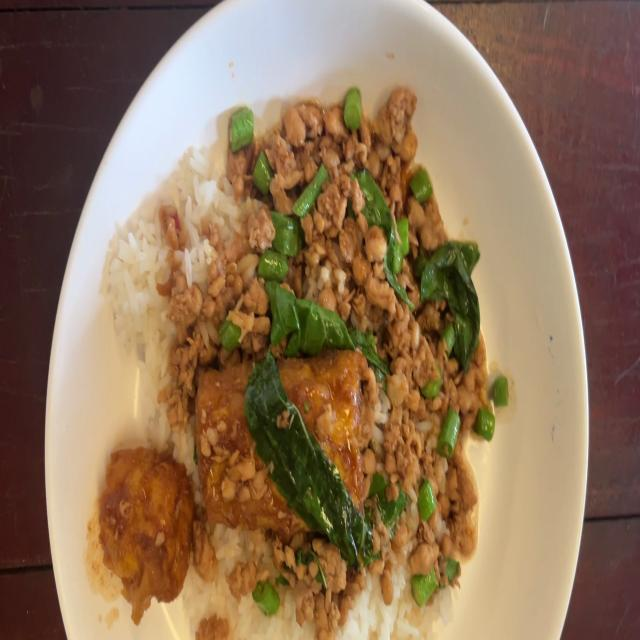01rice: (111, 195, 157, 345), (180, 136, 233, 248), (359, 584, 437, 640)
fried_tofo: (199, 355, 363, 520), (101, 449, 190, 594)
minced_pork: (173, 107, 484, 336), (366, 335, 481, 565), (208, 531, 362, 613)
stir_fried_basil: (99, 94, 501, 640)
